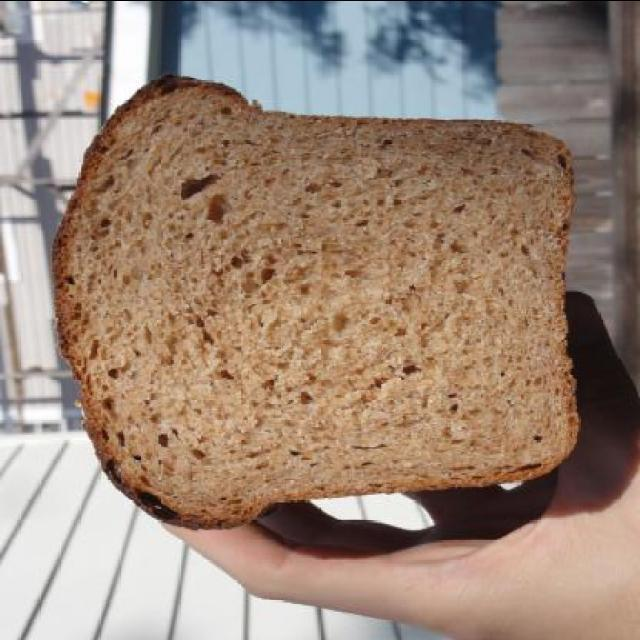Bread: (23, 111, 586, 534)
